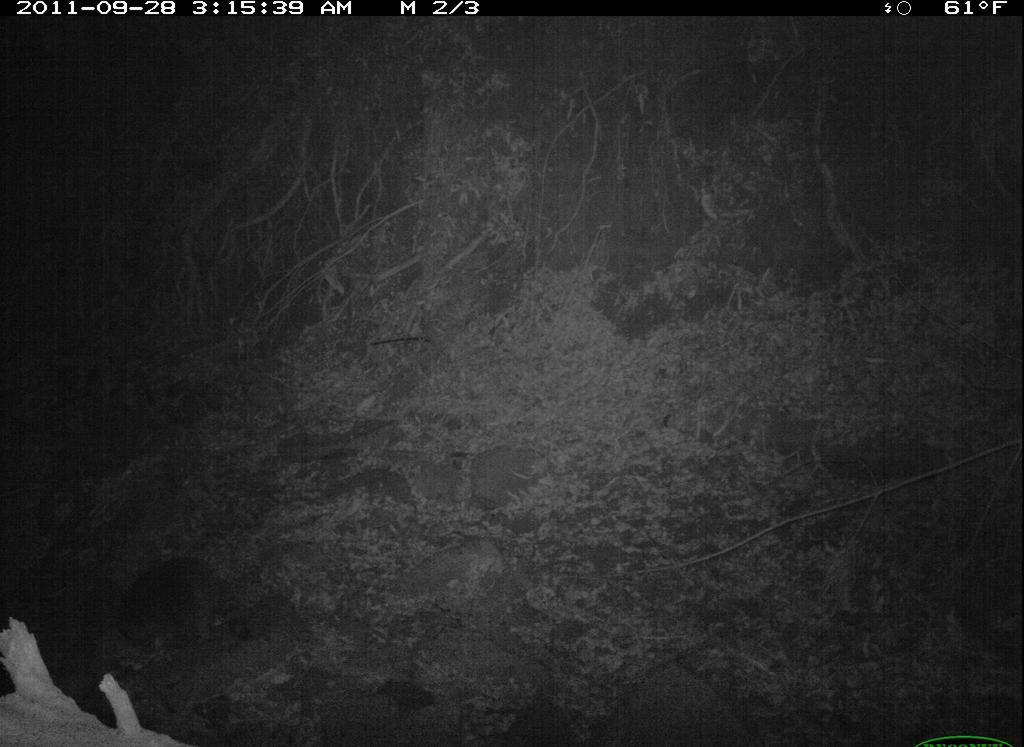raccoon: (109, 549, 263, 666)
